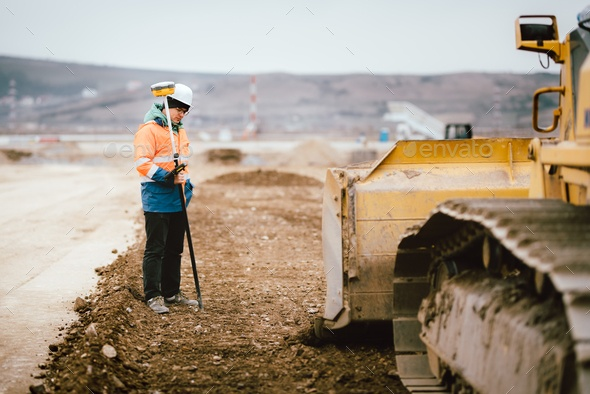white: (160, 82, 195, 121)
